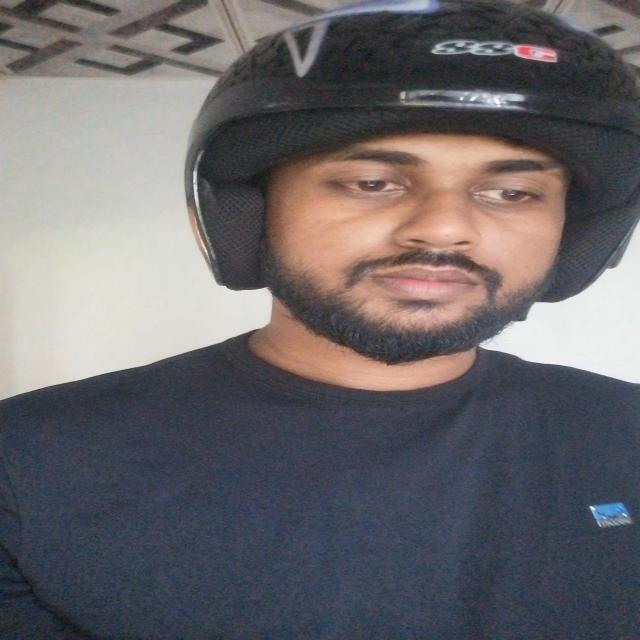Helmet_Wearer: (182, 4, 640, 422)
Person: (0, 14, 640, 640)
